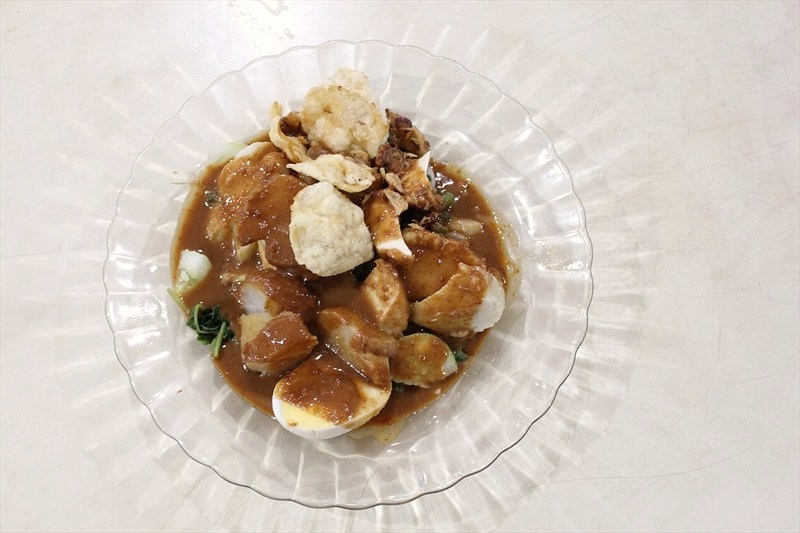Gado-Gado: (172, 115, 518, 427)
